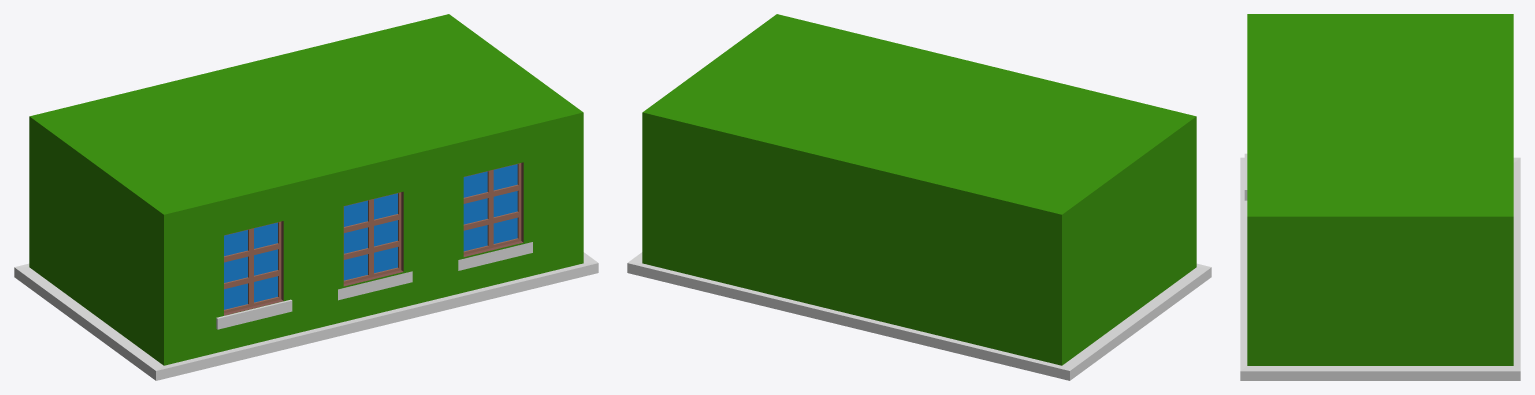
Rendered from green.fbx.
The picture shows the model from 3 angles, left to right: view 1: azimuth 30°, elevation 25°; view 2: azimuth 150°, elevation 25°; view 3: azimuth 270°, elevation 25°; orthographic projection.
Visible parts, largest first — view 1: yesil; view 2: yesil; view 3: yesil.
Part boxes in pixels (<box>): yesil: <box>14,14,598,380</box>; yesil: <box>627,14,1211,380</box>; yesil: <box>1240,14,1520,380</box>.
Bounding box in the file's own units: 625 × 217 × 347.
